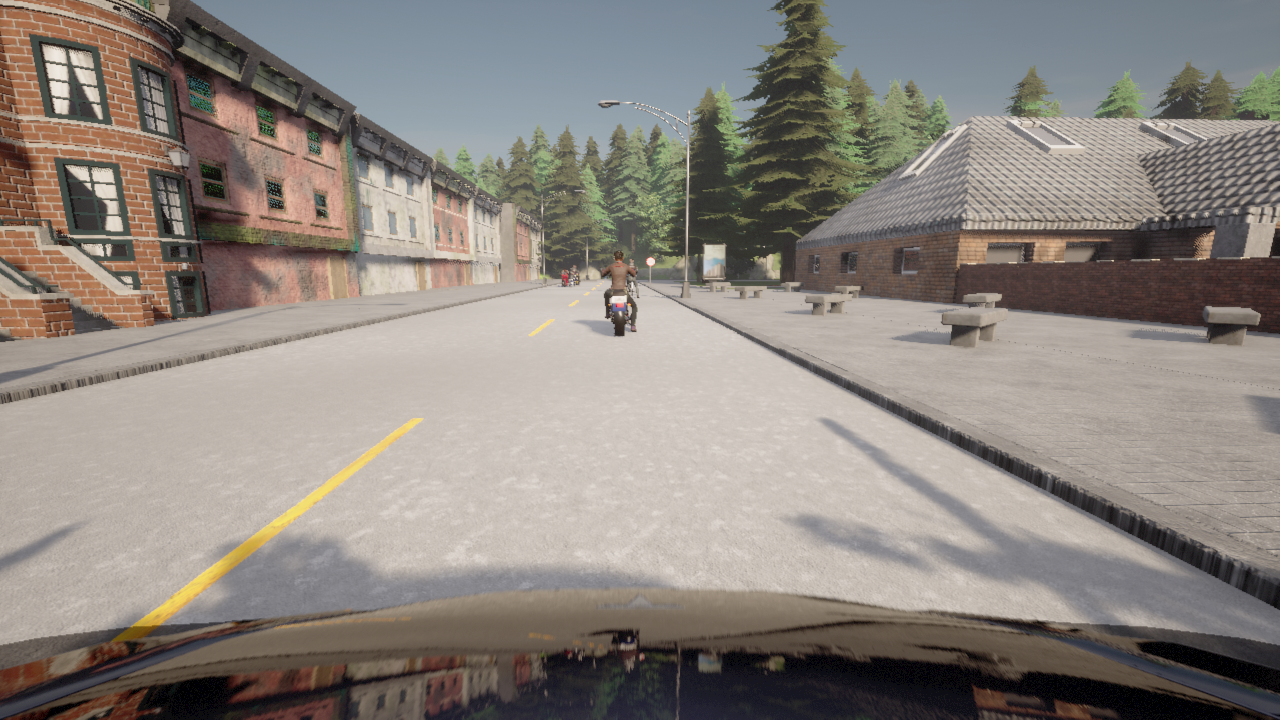cyclist: (0, 588, 1279, 719), (600, 268, 636, 335), (562, 272, 568, 286), (628, 281, 632, 296), (575, 273, 579, 284), (571, 275, 574, 284)
